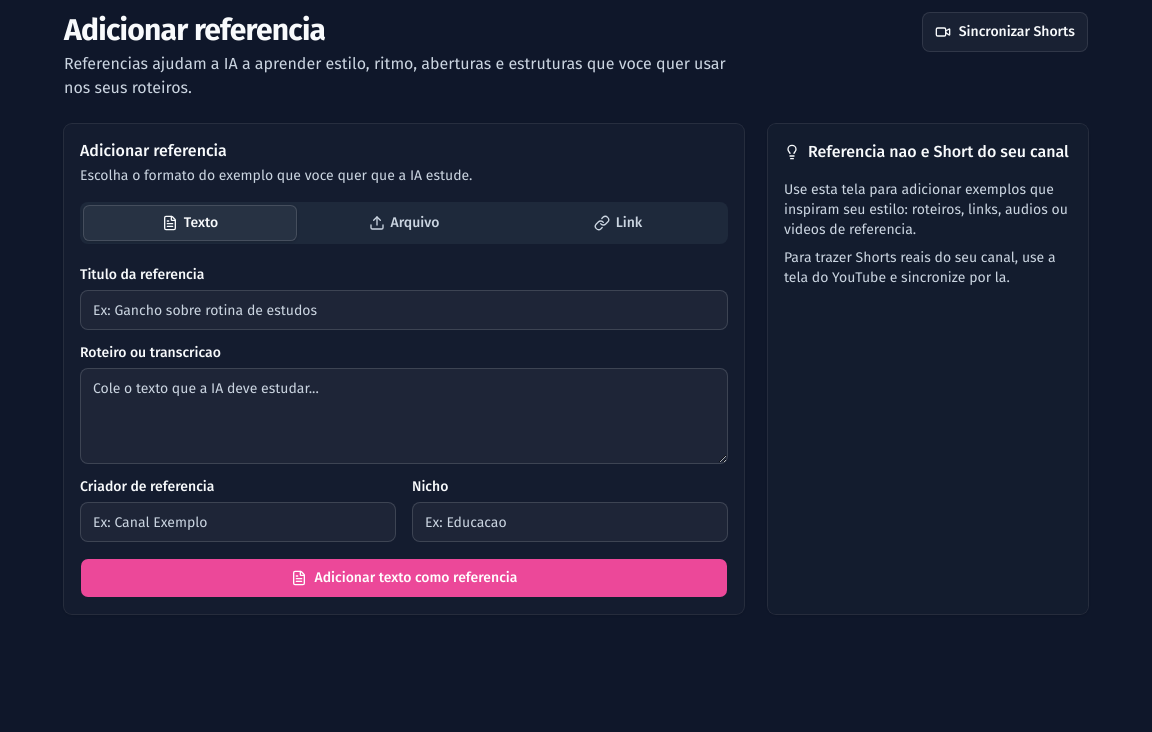
Scenario: Import Page › shows file dropzone when file tab is clicked
Click the tab with test id "tab-file" at (404, 223), box [297, 205, 511, 241]
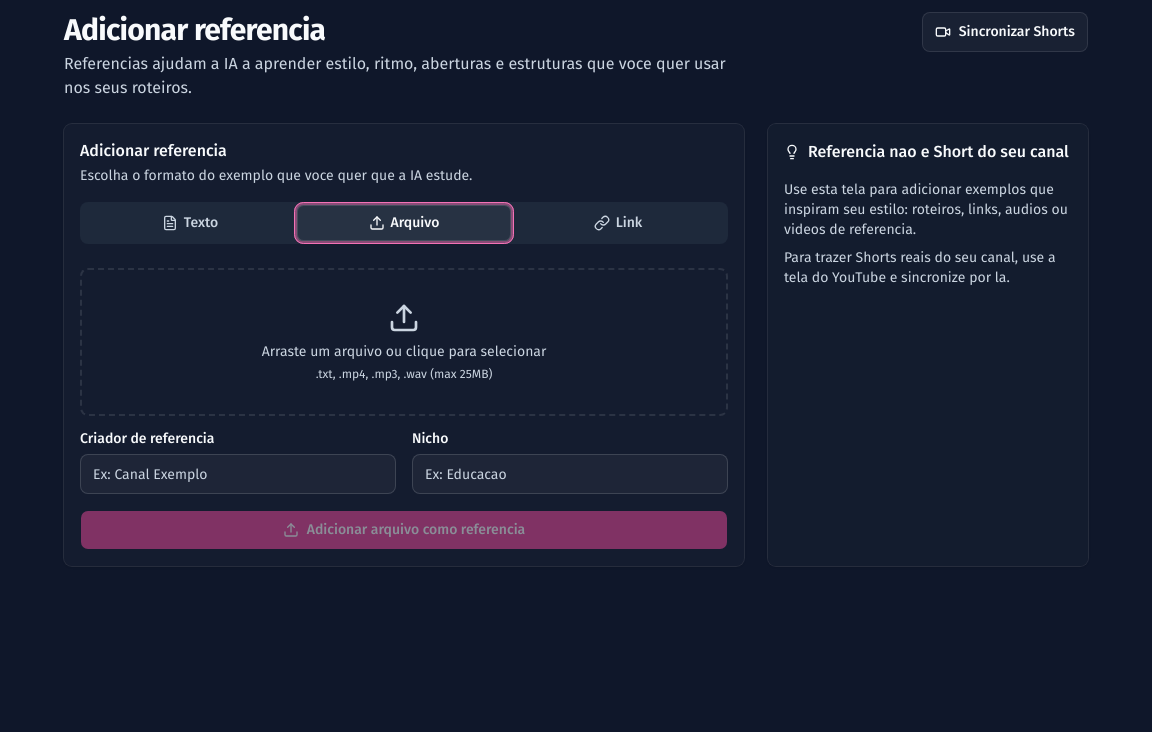
Expected: the element with test id "file-dropzone" is shown, [80, 268, 728, 416]
